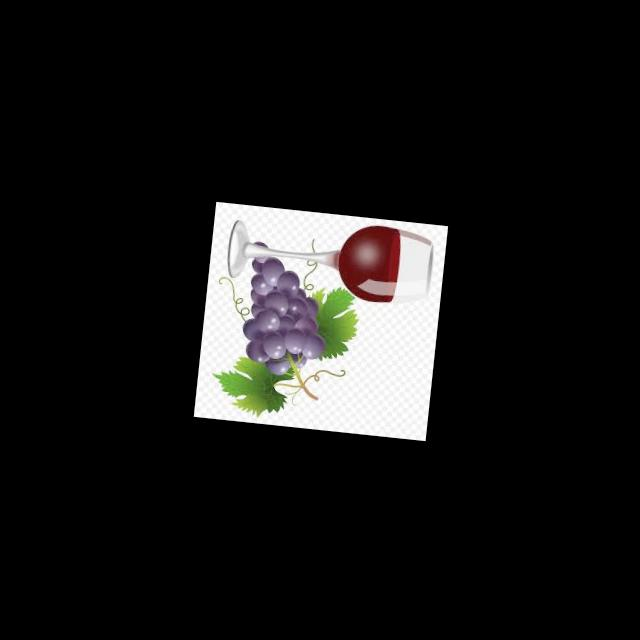grape: (238, 240, 335, 378)
